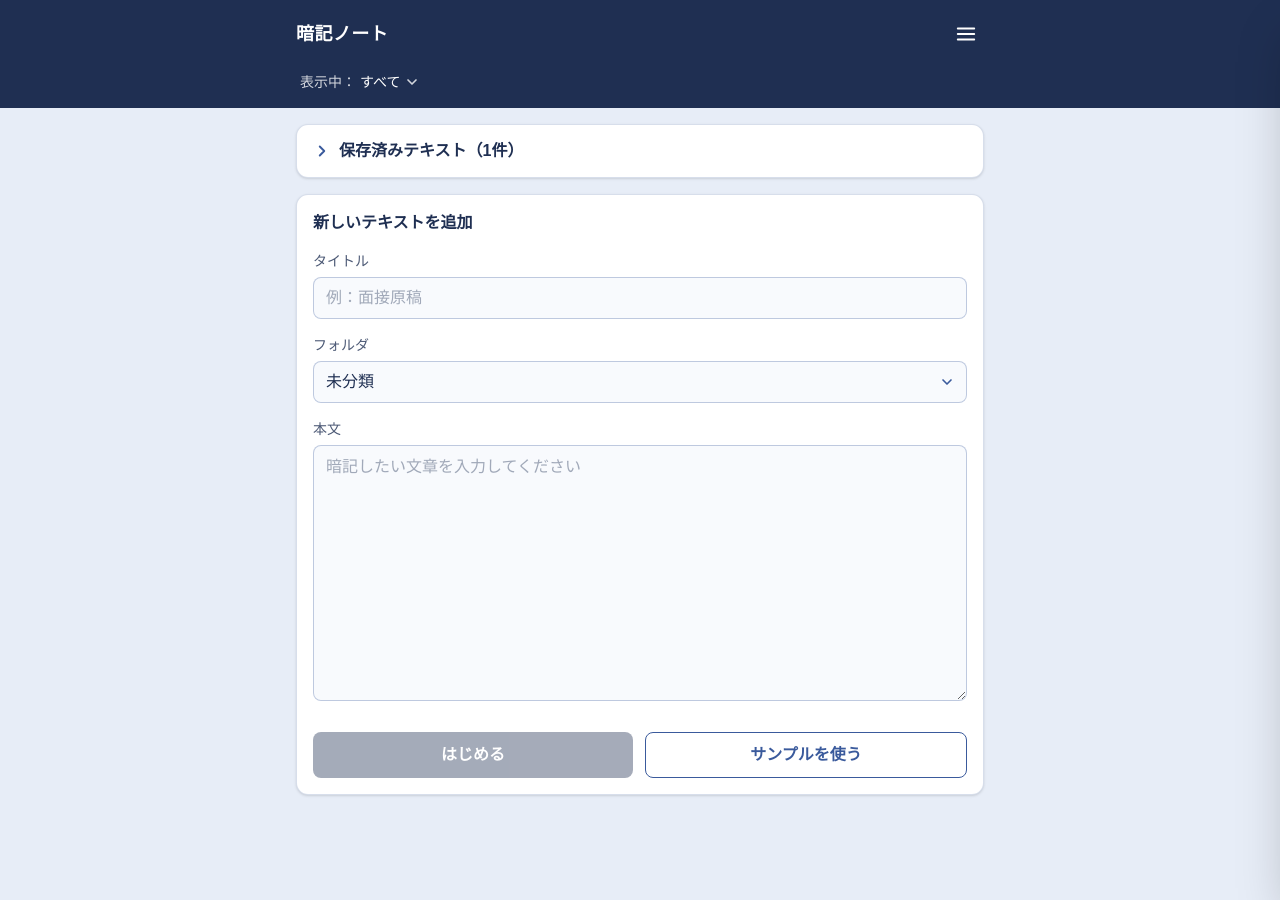
Scenario: HomeScreen › 保存済み一覧には習得状況のバッジが表示される
This screenshot has width=1280, height=900.
Click the button "保存済みテキスト（1件）" at x=411, y=150, box [297,125,983,177]
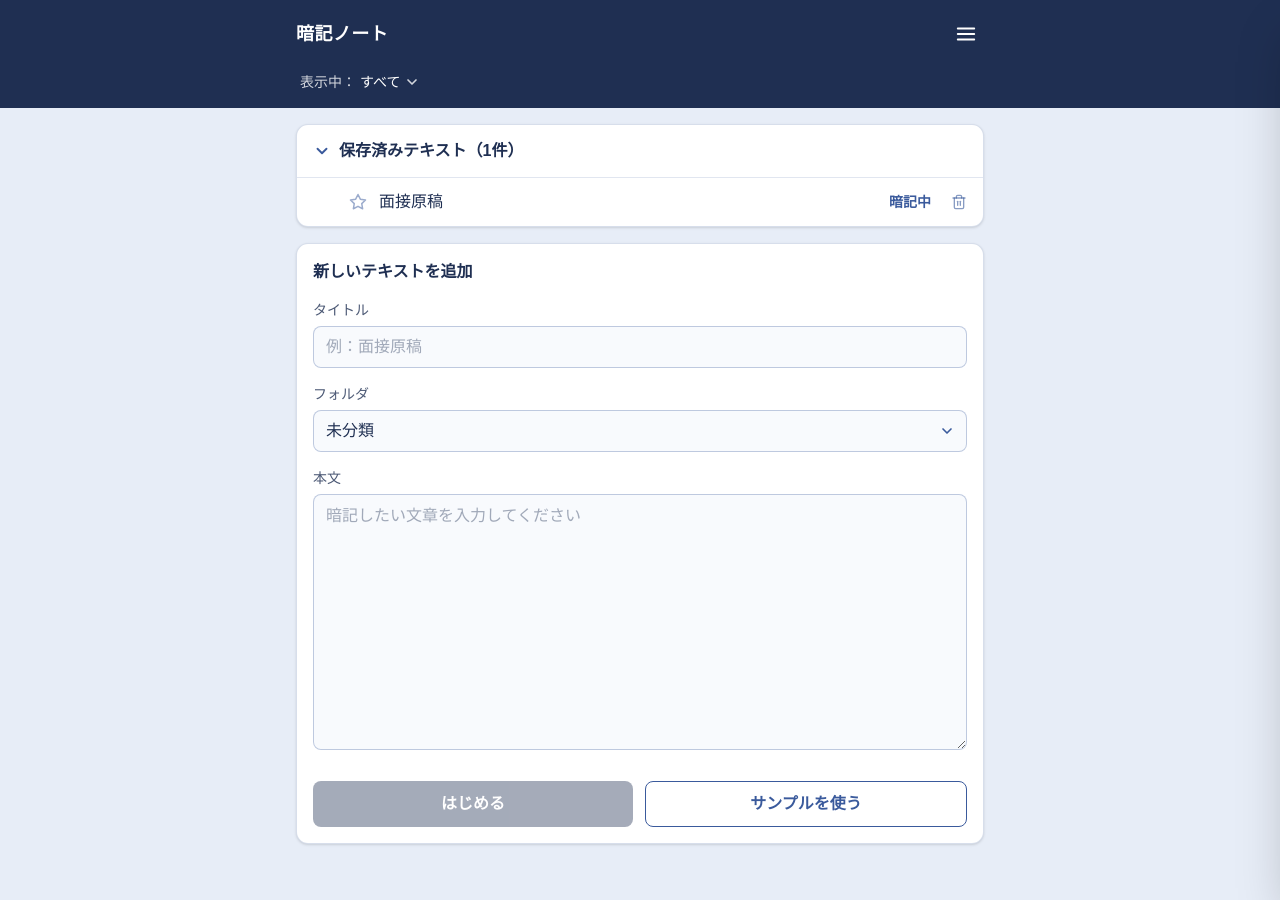
Check: the text "暗記中" is shown, box [889,192,931,212]
